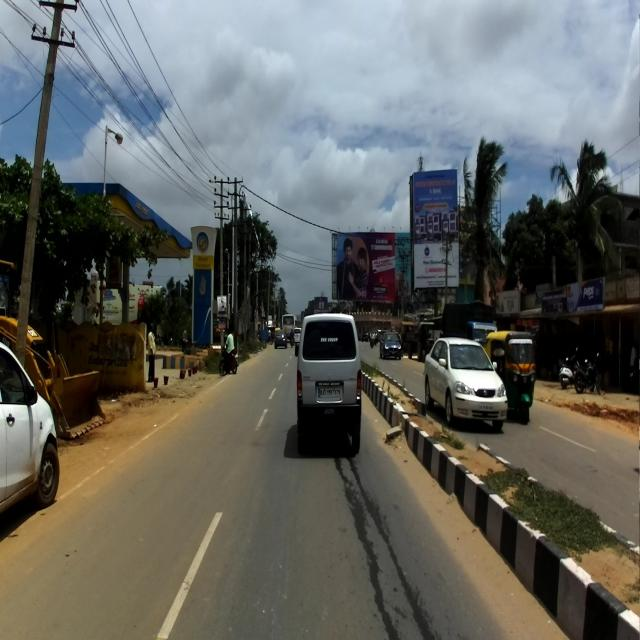car: (295, 314, 362, 456), (422, 334, 507, 434)
